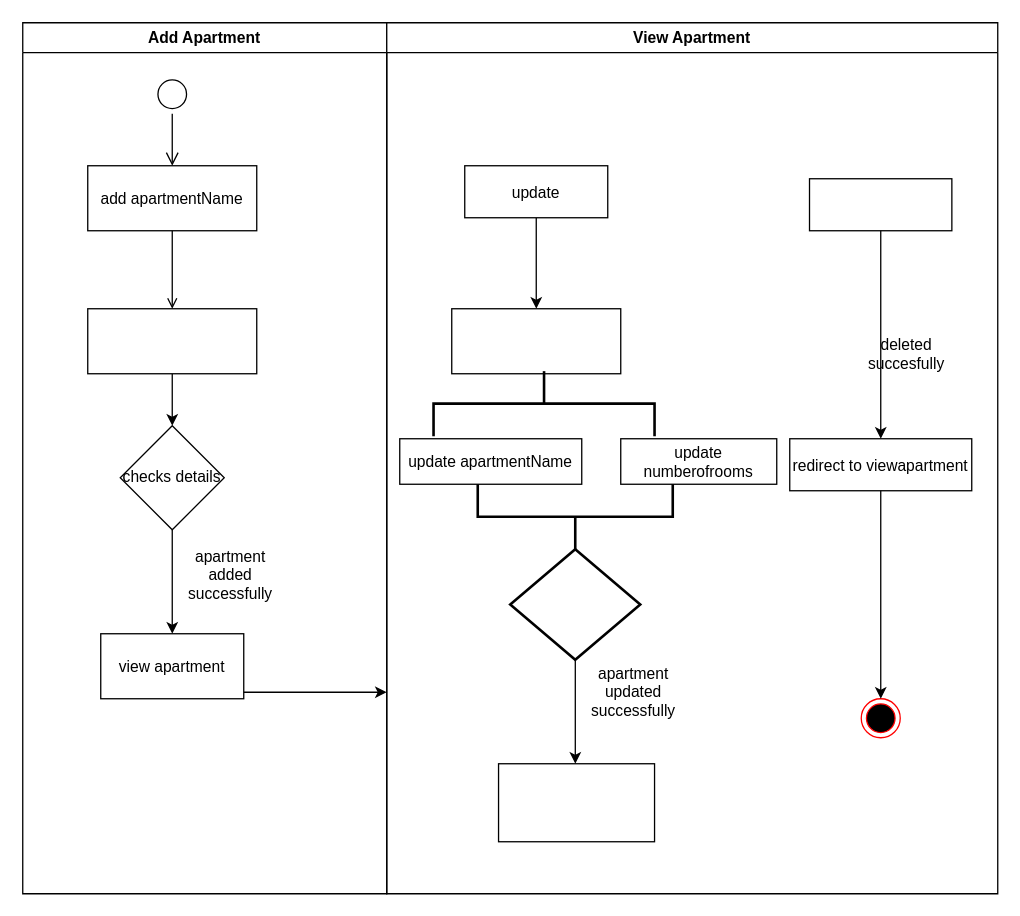
The diagram is 1020 pixels wide and 916 high, and some of its shapes have lost their labels. Here are the shapes that lost their labels. From the top down, the centre of each, then its label:
(x=880, y=204): delete
(x=171, y=340): add numberOfRooms
(x=535, y=340): display update form
(x=574, y=603): details updated?
(x=576, y=802): redirected back to the viewapart page
